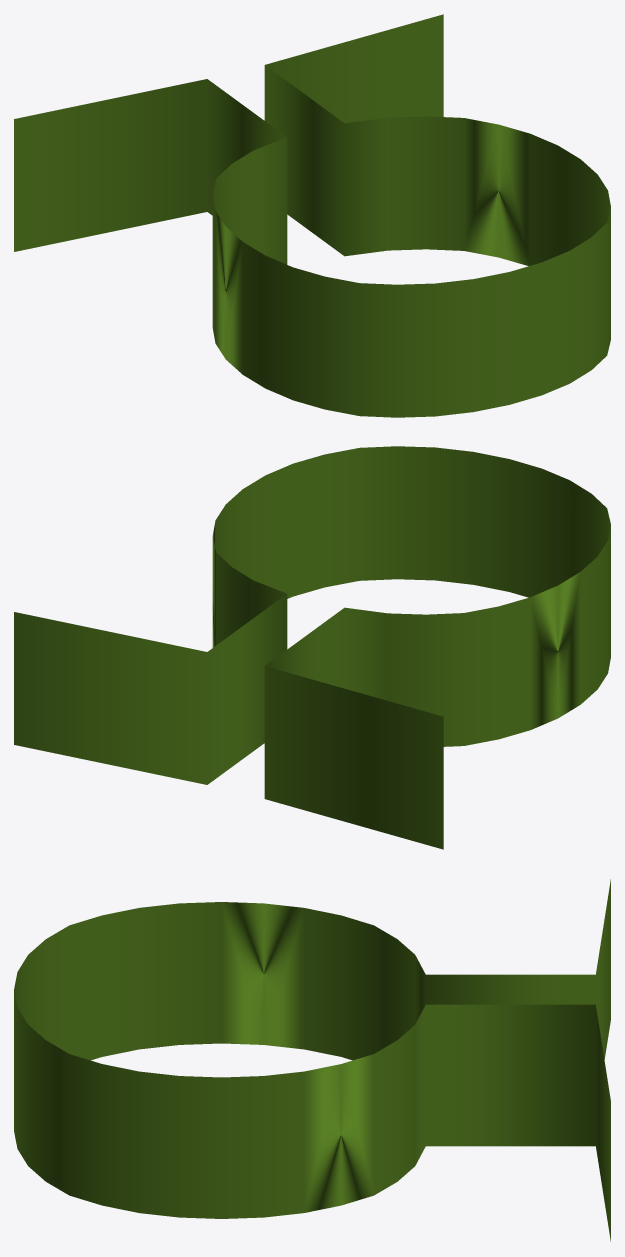
Rendered from StartingIslandFix.fbx.
3 renders of one model, top to bottom at view 1: azimuth 30°, elevation 25°; view 2: azimuth 150°, elevation 25°; view 3: azimuth 270°, elevation 25°, orthographic. The views are drawn at different scales.
Parts seen in each view (by area): view 1: Plane.021; view 2: Plane.021; view 3: Plane.021.
Boxes of the visible parts, box(x1,y1,x2,y2) form: Plane.021: box(14, 14, 610, 417); Plane.021: box(14, 446, 610, 849); Plane.021: box(14, 879, 610, 1241).
Size of the model in its own units: 5423 by 1604 by 6129.
1 material, 1 textured.
